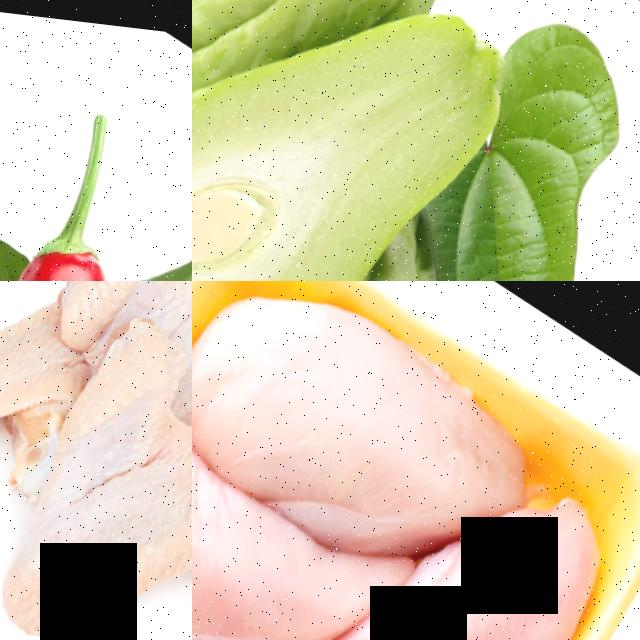chayote: (192, 0, 540, 281), (192, 0, 462, 112)
chicken breast: (192, 281, 539, 573), (309, 449, 613, 640), (192, 387, 394, 640)
chicken wing: (0, 291, 192, 640), (45, 281, 192, 481), (0, 281, 124, 501)
chilli: (0, 197, 192, 281)
